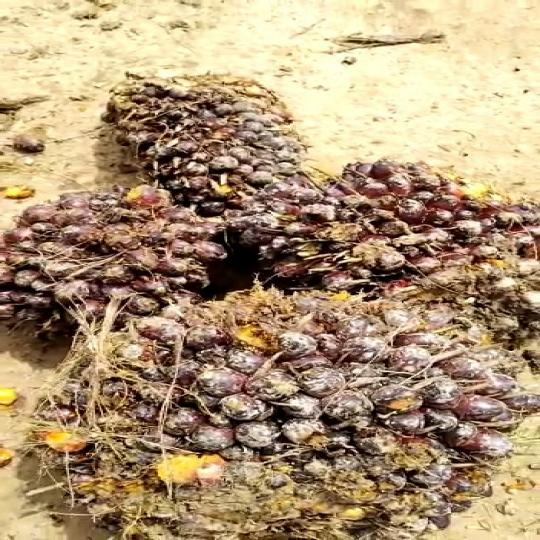kurang masak: (36, 277, 521, 540), (274, 151, 540, 340), (108, 68, 334, 216), (0, 184, 207, 335)
